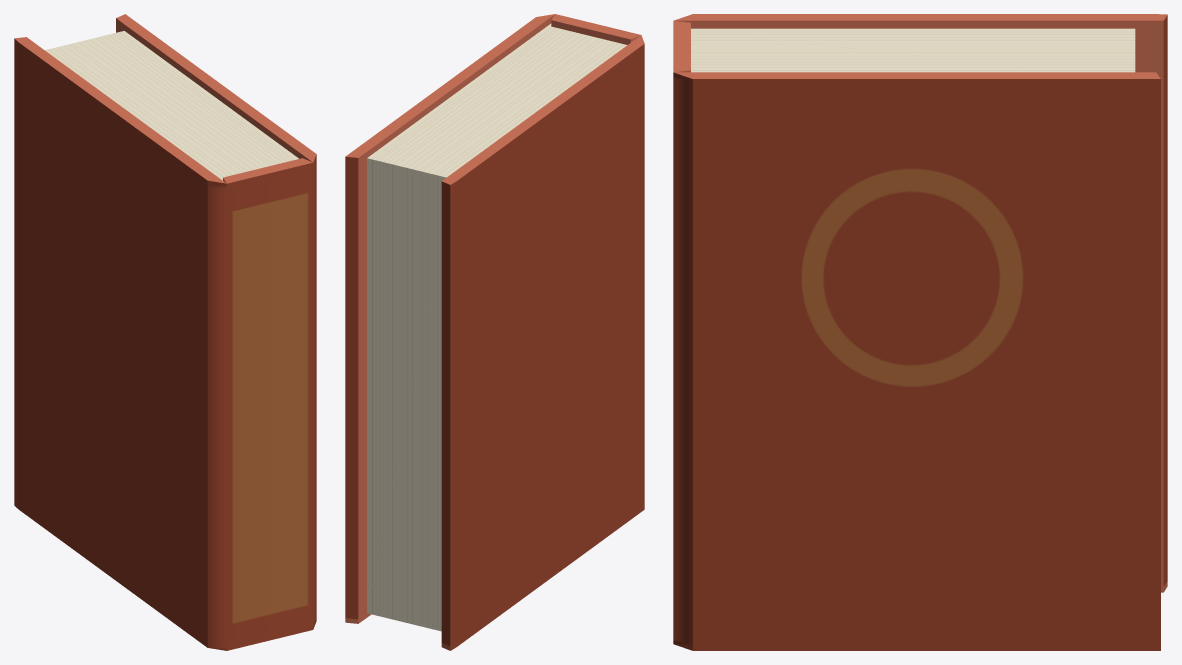
Rendered from bookRed.fbx.
The picture shows the model from 3 angles, left to right: view 1: azimuth 30°, elevation 25°; view 2: azimuth 150°, elevation 25°; view 3: azimuth 270°, elevation 25°; orthographic projection. The views are drawn at different scales.
Parts seen in each view (by area): view 1: book; view 2: book; view 3: book.
Boxes of the visible parts, x1,y1,x2,y2 form: book: (14, 14, 316, 650); book: (345, 14, 644, 650); book: (673, 14, 1167, 650).
Size of the model in its own units: 0.5003 by 2.05 by 1.6.
Materials: 1 (1 with a texture image).
